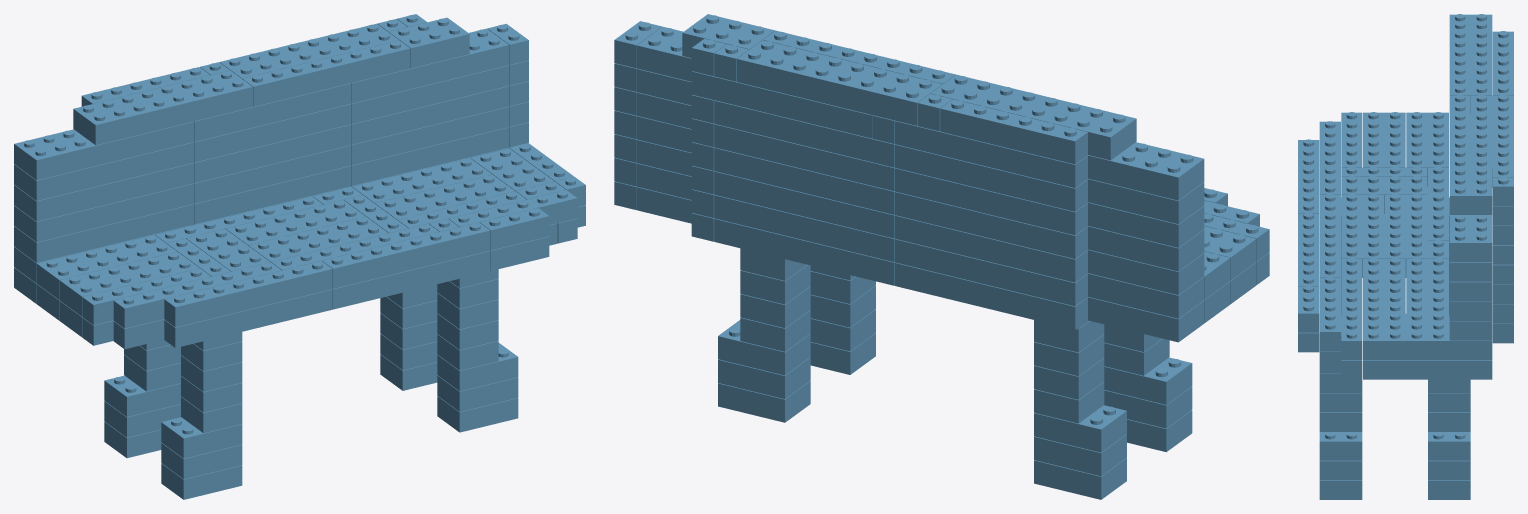
The model's file is 034_bench_L4.glb.
The picture shows the model from 3 angles, left to right: view 1: azimuth 30°, elevation 25°; view 2: azimuth 150°, elevation 25°; view 3: azimuth 270°, elevation 25°; orthographic projection. The views are drawn at different scales.
Size of the model in its own units: 24.98 by 16.13 by 9.98.
